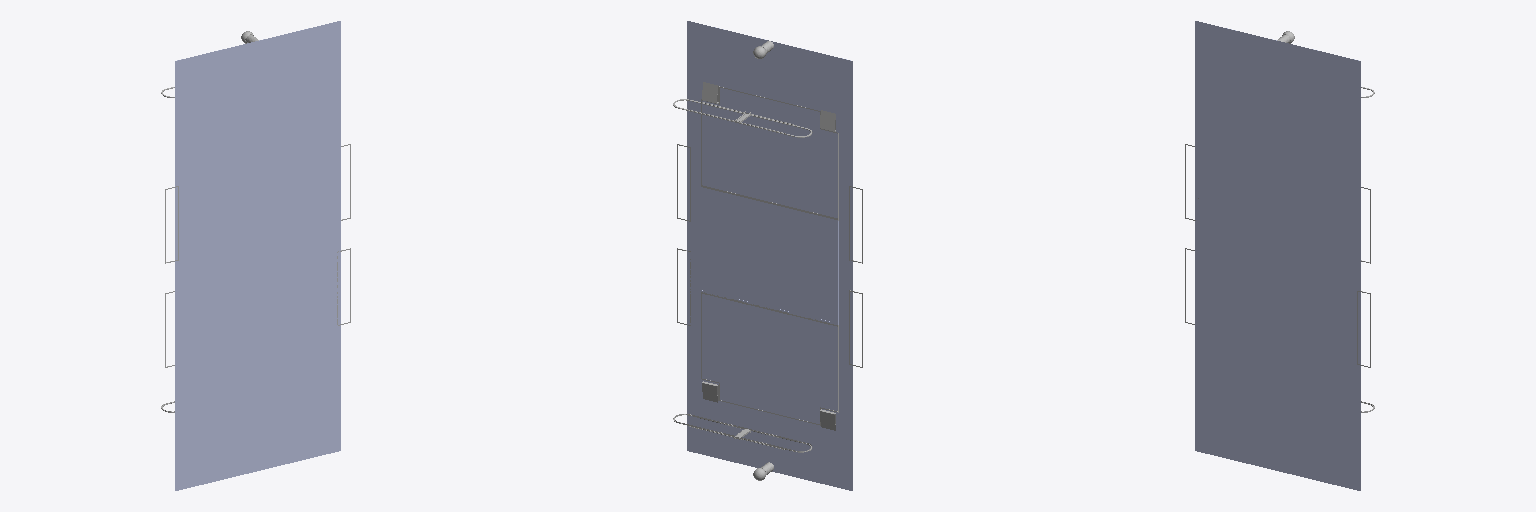
The robot description file, URDF, robot "frc_2014_field":
<robot
  name="frc_2014_field">
  <link
    name="base_link">
    <inertial>
      <origin
        xyz="0.069834 0.89354 0.25445"
        rpy="0 0 0" />
      <mass
        value="455.59" />
      <inertia
        ixx="21044"
        ixy="-24.831"
        ixz="230.5"
        iyy="25083"
        iyz="18.626"
        izz="4574.6" />
    </inertial>
    <visual>
      <origin
        xyz="0 0 0"
        rpy="0 0 0" />
      <geometry>
        <mesh
          filename="package://frc_2014_field/meshes/base_link.STL" />
      </geometry>
      <material
        name="">
        <color
          rgba="0.75294 0.75294 0.75294 1" />
      </material>
    </visual>
    <collision>
      <origin
        xyz="0 0 0"
        rpy="0 0 0" />
      <geometry>
        <mesh
          filename="package://frc_2014_field/meshes/base_link_col.STL" />
      </geometry>
    </collision>
  </link>
  <link
    name="White_zone">
    <inertial>
      <origin
        xyz="0 0.009525 -0.0163956999984019"
        rpy="0 0 0" />
      <mass
        value="13.121810401488" />
      <inertia
        ixx="78.8770251386208"
        ixy="0"
        ixz="-8.15158311221845E-14"
        iyy="172.254067260159"
        iyz="-2.10669517132047E-18"
        izz="93.3771303055716" />
    </inertial>
    <visual>
      <origin
        xyz="0 0 0"
        rpy="0 0 0" />
      <geometry>
        <mesh
          filename="package://frc_2014_field/meshes/White_zone.STL" />
      </geometry>
      <material
        name="">
        <color
          rgba="0.792156862745098 0.819607843137255 0.933333333333333 1" />
      </material>
    </visual>
    <collision>
      <origin
        xyz="0 0 0"
        rpy="0 0 0" />
      <geometry>
        <mesh
          filename="package://frc_2014_field/meshes/White_zone.STL" />
      </geometry>
    </collision>
  </link>
  <joint
    name="White_zone_fix"
    type="fixed">
    <origin
      xyz="0 0 0"
      rpy="0 0 0" />
    <parent
      link="base_link" />
    <child
      link="White_zone" />
    <axis
      xyz="0 0 0" />
  </joint>
  <link
    name="Blue_zone">
    <inertial>
      <origin
        xyz="-0.163169003062132 0.871785175886823 -5.16270364515671"
        rpy="0 0 0" />
      <mass
        value="188.209895789408" />
      <inertia
        ixx="13754.0318439735"
        ixy="24.7855254618397"
        ixz="-399.568011299058"
        iyy="14229.1175500156"
        iyz="-107.653712175495"
        izz="653.151428711642" />
    </inertial>
    <visual>
      <origin
        xyz="0 0 0"
        rpy="0 0 0" />
      <geometry>
        <mesh
          filename="package://frc_2014_field/meshes/Blue_zone.STL" />
      </geometry>
      <material
        name="">
        <color
          rgba="0.752941176470588 0.752941176470588 0.752941176470588 1" />
      </material>
    </visual>
    <collision>
      <origin
        xyz="0 0 0"
        rpy="0 0 0" />
      <geometry>
        <mesh
          filename="package://frc_2014_field/meshes/Blue_zone_col.STL" />
      </geometry>
    </collision>
  </link>
  <joint
    name="Blue_zone_fix"
    type="fixed">
    <origin
      xyz="0 0 0"
      rpy="0 0 0" />
    <parent
      link="base_link" />
    <child
      link="Blue_zone" />
    <axis
      xyz="0 0 0" />
  </joint>
  <link
    name="Red_Zone">
    <inertial>
      <origin
        xyz="0.16317059903516 0.871785175886823 5.16270364515671"
        rpy="0 0 0" />
      <mass
        value="188.209895789408" />
      <inertia
        ixx="13754.0318439736"
        ixy="-24.7855254618398"
        ixz="-399.568011299057"
        iyy="14229.1175500156"
        iyz="107.653712175495"
        izz="653.151428711642" />
    </inertial>
    <visual>
      <origin
        xyz="0 0 0"
        rpy="0 0 0" />
      <geometry>
        <mesh
          filename="package://frc_2014_field/meshes/Red_Zone.STL" />
      </geometry>
      <material
        name="">
        <color
          rgba="0.752941176470588 0.752941176470588 0.752941176470588 1" />
      </material>
    </visual>
    <collision>
      <origin
        xyz="0 0 0"
        rpy="0 0 0" />
      <geometry>
        <mesh
          filename="package://frc_2014_field/meshes/Red_Zone_col.STL" />
      </geometry>
    </collision>
  </link>
  <joint
    name="Red_zone_fix"
    type="fixed">
    <origin
      xyz="0 0 0"
      rpy="0 0 0" />
    <parent
      link="base_link" />
    <child
      link="Red_Zone" />
    <axis
      xyz="0 0 0" />
  </joint>
  <link
    name="Carpet">
    <inertial>
      <origin
        xyz="0 0.003175 0"
        rpy="0 0 0" />
      <mass
        value="1309.7" />
      <inertia
        ixx="55522"
        ixy="0"
        ixz="0"
        iyy="64648"
        iyz="0"
        izz="9125.3" />
    </inertial>
    <visual>
      <origin
        xyz="0 0 0"
        rpy="0 0 0" />
      <geometry>
        <mesh
          filename="package://frc_2014_field/meshes/Carpet.STL" />
      </geometry>
      <material
        name="">
        <color
          rgba="0.79216 0.81961 0.93333 1" />
      </material>
    </visual>
    <collision>
      <origin
        xyz="0 0 0"
        rpy="0 0 0" />
      <geometry>
        <mesh
          filename="package://frc_2014_field/meshes/Carpet.STL" />
      </geometry>
    </collision>
  </link>
  <joint
    name="Carpet_fix"
    type="fixed">
    <origin
      xyz="0 0 0"
      rpy="0 0 0" />
    <parent
      link="base_link" />
    <child
      link="Carpet" />
    <axis
      xyz="0 0 0" />
  </joint>

<gazebo reference="base_link">
    <material>Gazebo/Grey</material>
  </gazebo>

<gazebo reference="Carpet">
    <material>Gazebo/Grey</material>
  </gazebo>

<gazebo reference="White_zone">
    <material>Gazebo/White</material>
  </gazebo>

<gazebo reference="Red_Zone">
    <material>Gazebo/Red</material>
  </gazebo>

<gazebo reference="Blue_zone">
    <material>Gazebo/Blue</material>
  </gazebo>

</robot>

--- Facts derived from the render (not from the file) ---
3 views of the same robot in one strip: view 1: azimuth 30°, elevation 25°; view 2: azimuth 150°, elevation 25°; view 3: azimuth 330°, elevation 25° (orthographic).
Model frc_2014_field with 5 links and 4 joints (4 fixed), rooted at base_link, posed every joint at zero.
Links seen in each view (by area): view 1: Carpet; view 2: Carpet, Blue_zone, Red_Zone, White_zone; view 3: Carpet.
Link boxes in pixels (left/top/right/bottom): Carpet: left=175, top=21, right=340, bottom=490; Carpet: left=687, top=21, right=852, bottom=490; Blue_zone: left=673, top=82, right=862, bottom=480; Red_Zone: left=673, top=41, right=862, bottom=452; White_zone: left=701, top=187, right=838, bottom=324; Carpet: left=1195, top=21, right=1360, bottom=490.
Bounding box of the posed robot: 10.16 × 3.13 × 22.71 m (x, y, z).
4 mesh visuals loaded from 5 distinct referenced files (4 binary STL); not drawn: 1 (reference not matched to a file when rendering).